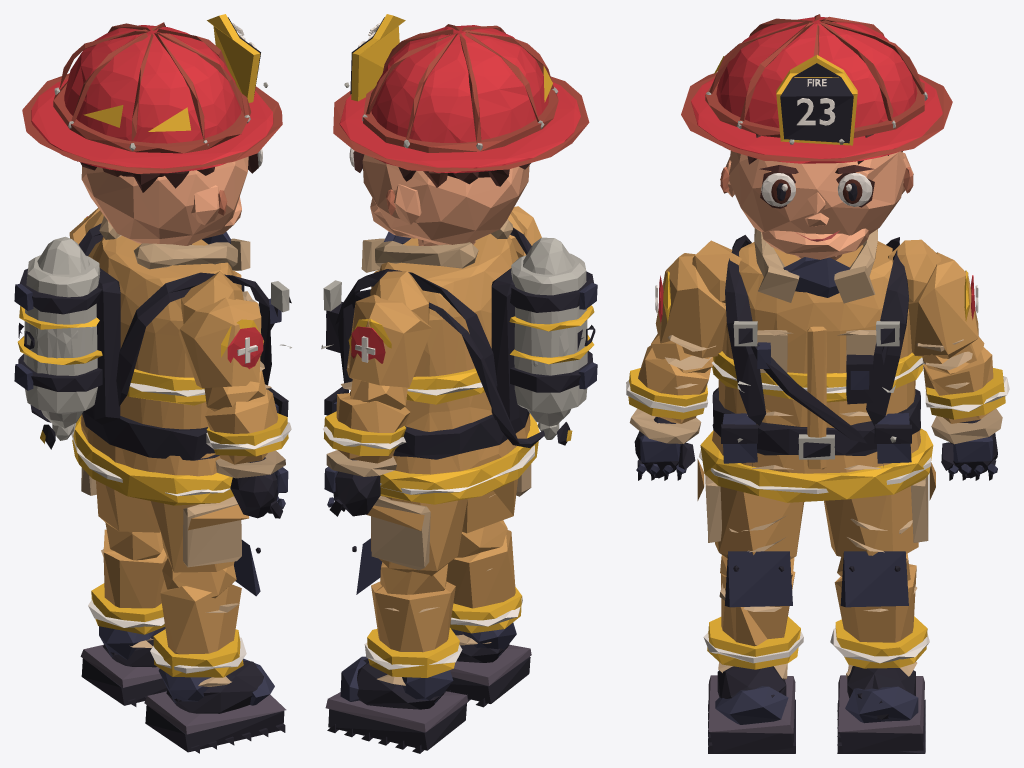
The model's file is npc.firefighter-alive.lod1.glb.
The picture shows the model from 3 angles, left to right: view 1: azimuth 30°, elevation 25°; view 2: azimuth 150°, elevation 25°; view 3: azimuth 270°, elevation 25°; orthographic projection.
Parts seen in each view (by area): view 1: torso, head, shinR, footR, armR, shinL, foreArmR, legR, footL, legL, handR, armL; view 2: torso, head, shinL, footL, armL, shinR, foreArmL, legL, footR, legR, handL, armR; view 3: torso, head, shinL, shinR, footL, footR, armL, armR, foreArmR, foreArmL, legL, legR (+2 smaller).
Boxes of the visible parts, bbox=[...] form: torso: bbox=[14, 216, 291, 505]; head: bbox=[22, 14, 282, 245]; shinR: bbox=[150, 540, 260, 686]; footR: bbox=[144, 658, 286, 753]; armR: bbox=[178, 271, 264, 388]; shinL: bbox=[88, 522, 167, 647]; foreArmR: bbox=[204, 370, 291, 478]; legR: bbox=[151, 496, 249, 572]; footL: bbox=[80, 626, 167, 706]; legL: bbox=[81, 467, 160, 532]; handR: bbox=[230, 457, 288, 518]; armL: bbox=[69, 208, 103, 258]; torso: bbox=[321, 219, 597, 504]; head: bbox=[333, 14, 589, 245]; shinL: bbox=[352, 538, 462, 685]; footL: bbox=[325, 656, 467, 753]; armL: bbox=[346, 271, 432, 387]; shinR: bbox=[446, 520, 522, 645]; foreArmL: bbox=[323, 378, 410, 476]; legL: bbox=[366, 495, 467, 576]; footR: bbox=[445, 622, 531, 707]; legR: bbox=[462, 464, 531, 533]; handL: bbox=[324, 457, 380, 516]; armR: bbox=[508, 206, 541, 257]; torso: bbox=[699, 228, 933, 502]; head: bbox=[681, 14, 952, 260]; shinL: bbox=[830, 551, 929, 678]; shinR: bbox=[703, 551, 803, 679]; footL: bbox=[837, 666, 925, 753]; footR: bbox=[708, 666, 795, 753]; armL: bbox=[888, 239, 978, 358]; armR: bbox=[655, 240, 741, 358]; foreArmR: bbox=[626, 334, 713, 443]; foreArmL: bbox=[922, 336, 1009, 444]; legL: bbox=[824, 462, 935, 557]; legR: bbox=[697, 459, 804, 559].
Bounding box in the file's own units: 0.6626 × 1.8 × 0.9007.
